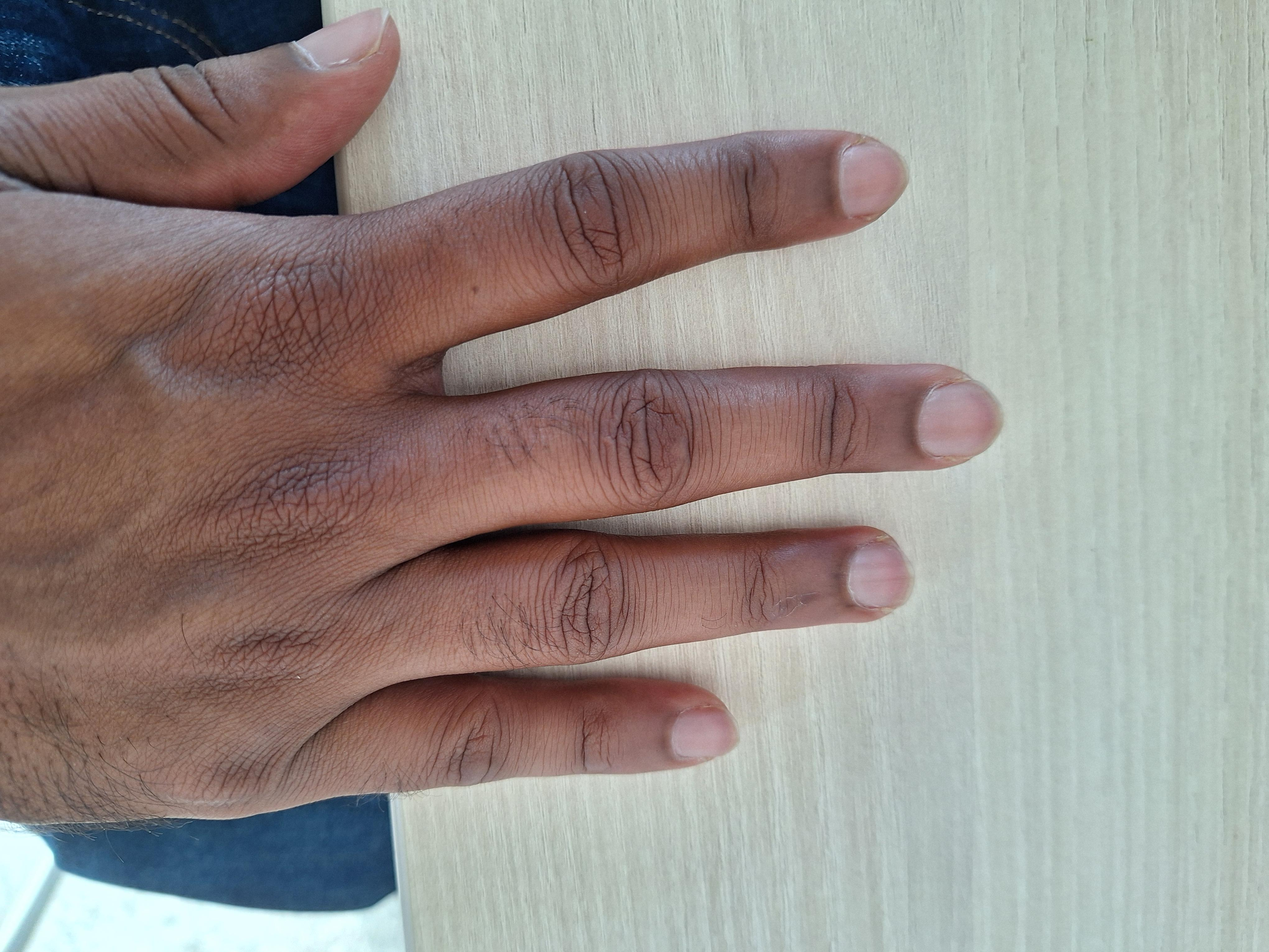Fingernail: (918, 380, 1004, 457), (297, 6, 390, 68), (841, 144, 910, 219), (849, 544, 915, 609), (673, 705, 740, 759)
